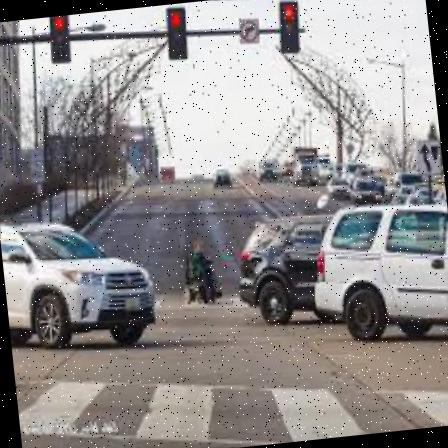wheel: (179, 234, 227, 310)
